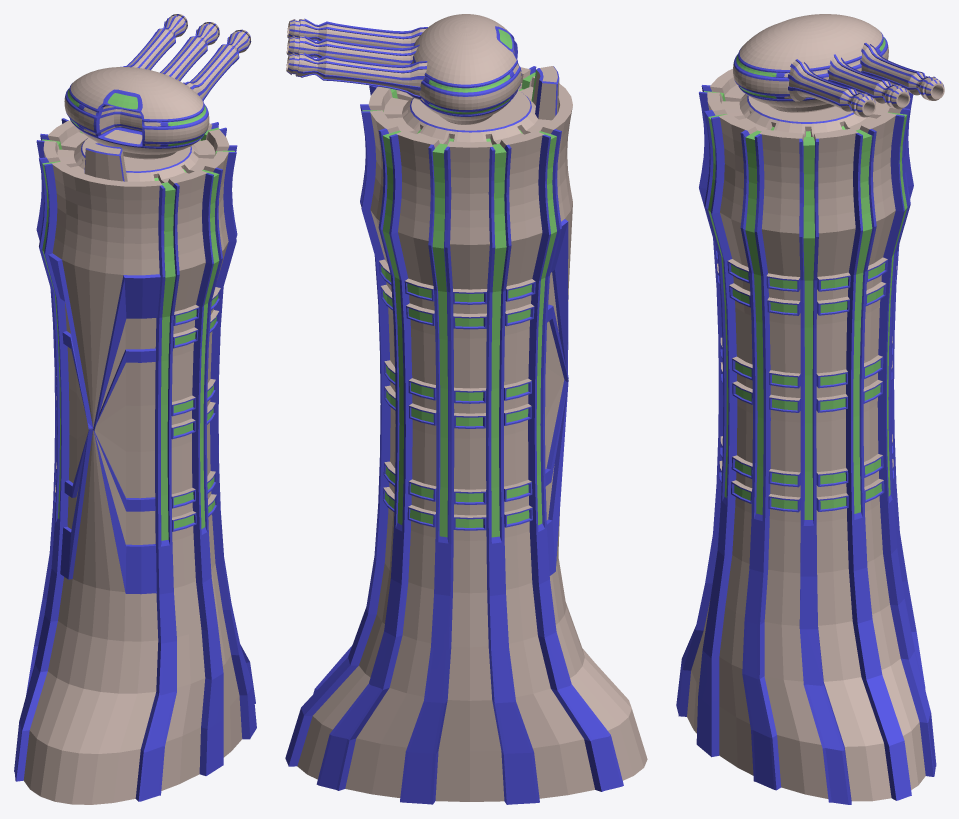
File: Tour_Defense_MC.fbx
3 views of the same model, side by side, from view 1: azimuth 30°, elevation 25°; view 2: azimuth 150°, elevation 25°; view 3: azimuth 270°, elevation 25° (orthographic). The views are drawn at different scales.
Parts seen in each view (by area): view 1: Sphere.013, Sphere.006; view 2: Sphere.013, Sphere.006; view 3: Sphere.013, Sphere.006.
Boxes of the visible parts, x1,y1,x2,y2 form: Sphere.013: [14, 118, 256, 804]; Sphere.006: [64, 14, 251, 159]; Sphere.013: [285, 66, 647, 804]; Sphere.006: [286, 14, 521, 124]; Sphere.013: [676, 69, 936, 804]; Sphere.006: [733, 14, 944, 117].
Bounding box in the file's own units: 1369 × 3223 × 1098.
